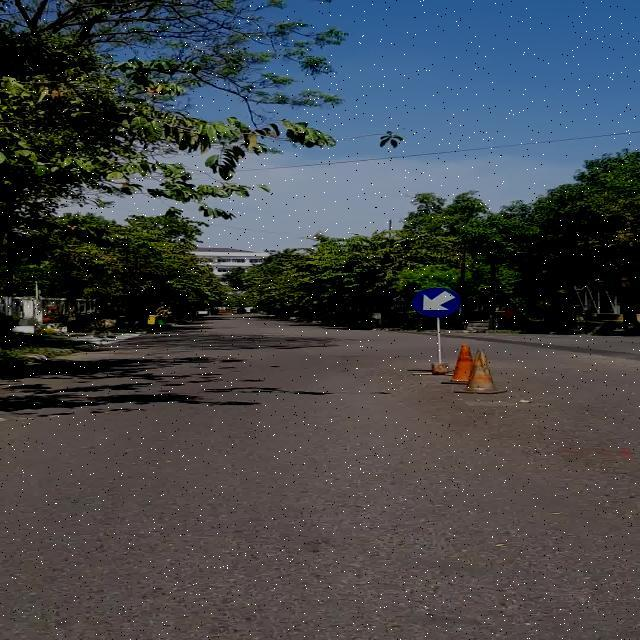Lajur Kiri: (412, 287, 460, 317)
